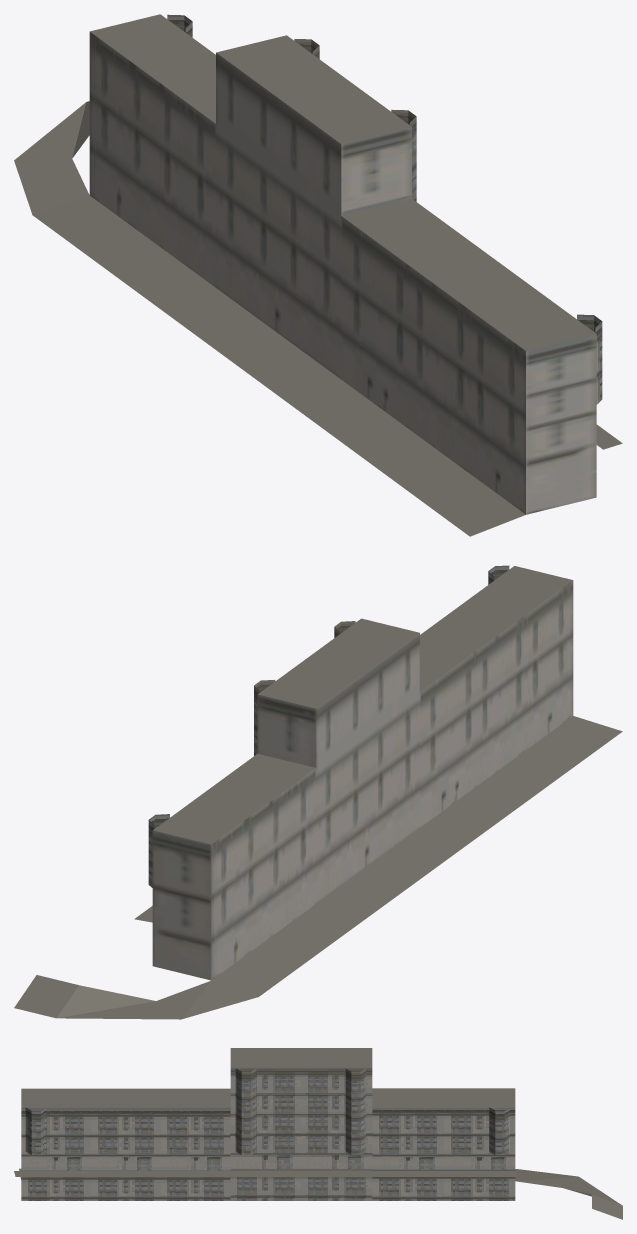
File: loda52.obj
The picture shows the model from 3 angles, top to bottom: view 1: azimuth 30°, elevation 25°; view 2: azimuth 150°, elevation 25°; view 3: azimuth 270°, elevation 25°; orthographic projection. The views are drawn at different scales.
Parts seen in each view (by area): view 1: LODA52; view 2: LODA52; view 3: LODA52.
Boxes of the visible parts, bbox=[...] form: LODA52: bbox=[14, 14, 622, 536]; LODA52: bbox=[14, 565, 622, 1019]; LODA52: bbox=[14, 1048, 622, 1219].
Bounding box in the file's own units: 33.58 × 38.52 × 155.
Materials: 7 (5 with a texture image).
